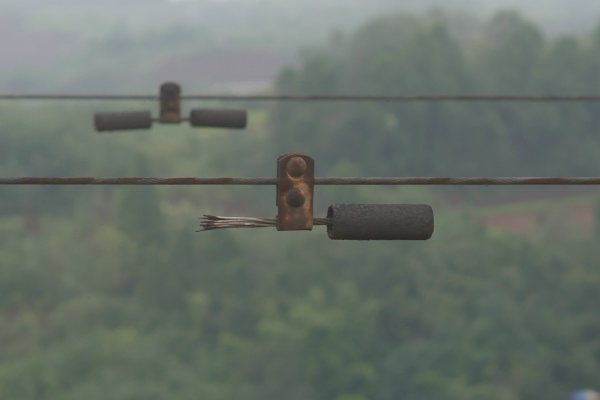damper: (90, 79, 250, 135)
damper_defect: (190, 148, 437, 246)
